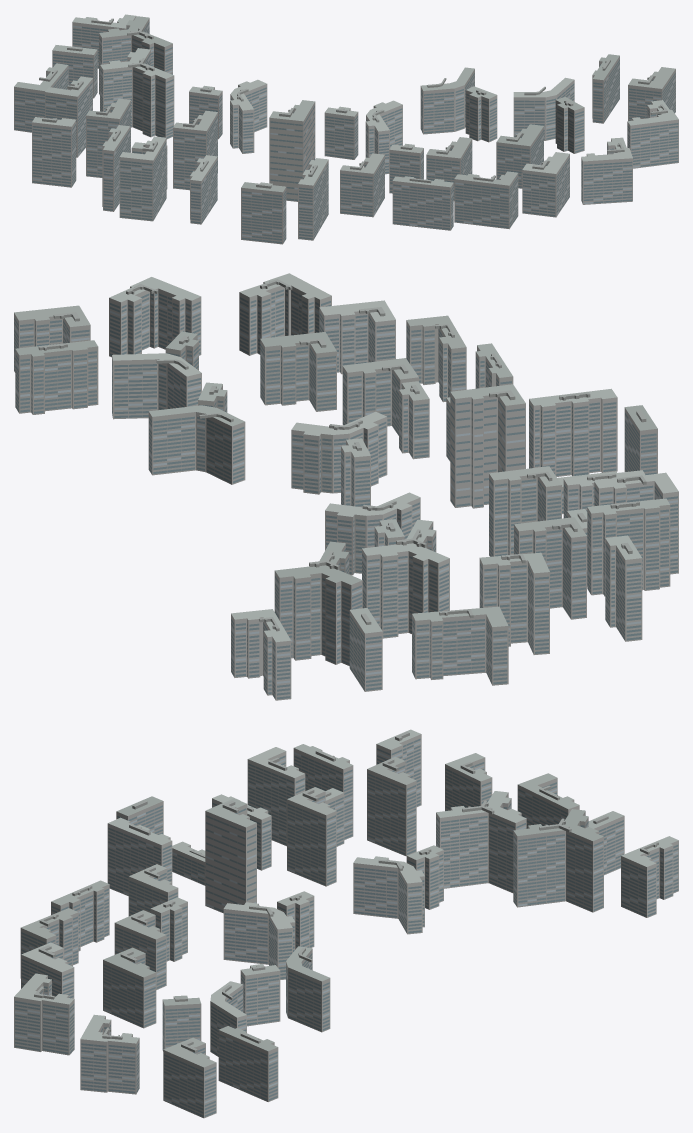
Rendered from apt-a13524011.glb.
3 views of the same model, one above another, from view 1: azimuth 30°, elevation 25°; view 2: azimuth 150°, elevation 25°; view 3: azimuth 270°, elevation 25° (orthographic). The views are drawn at different scales.
Parts seen in each view (by area): view 1: apt-a13524011; view 2: apt-a13524011; view 3: apt-a13524011.
Boxes of the visible parts, x1,y1,x2,y2 form: apt-a13524011: (14, 14, 678, 244); apt-a13524011: (14, 273, 678, 700); apt-a13524011: (14, 729, 678, 1118).
Bounding box in the file's own units: 612 × 87.8 × 541.
